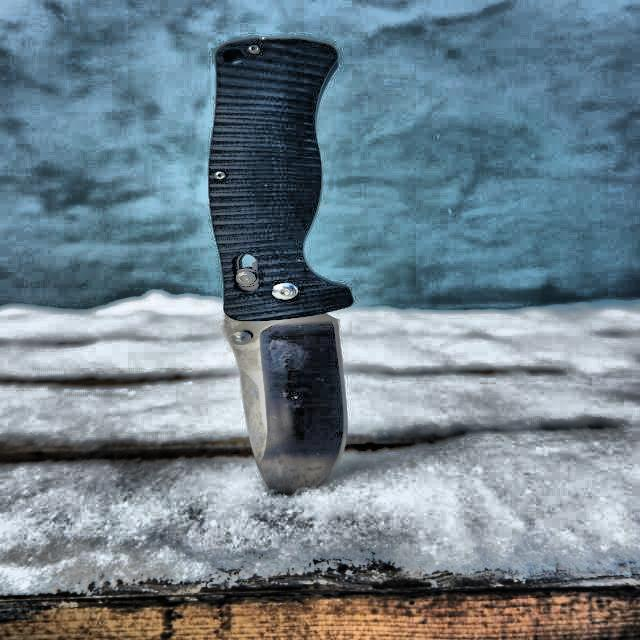knife: (214, 36, 374, 495)
